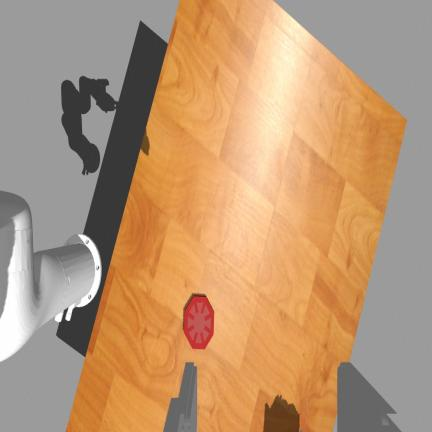sliced_tomato: (185, 296, 214, 348)
